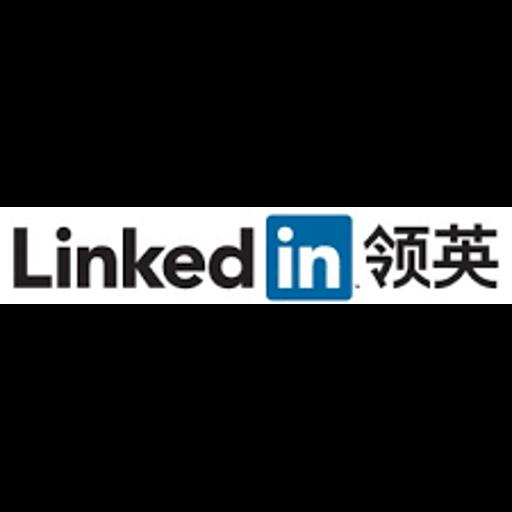LinkedIn Corporation: (0, 207, 512, 304)
